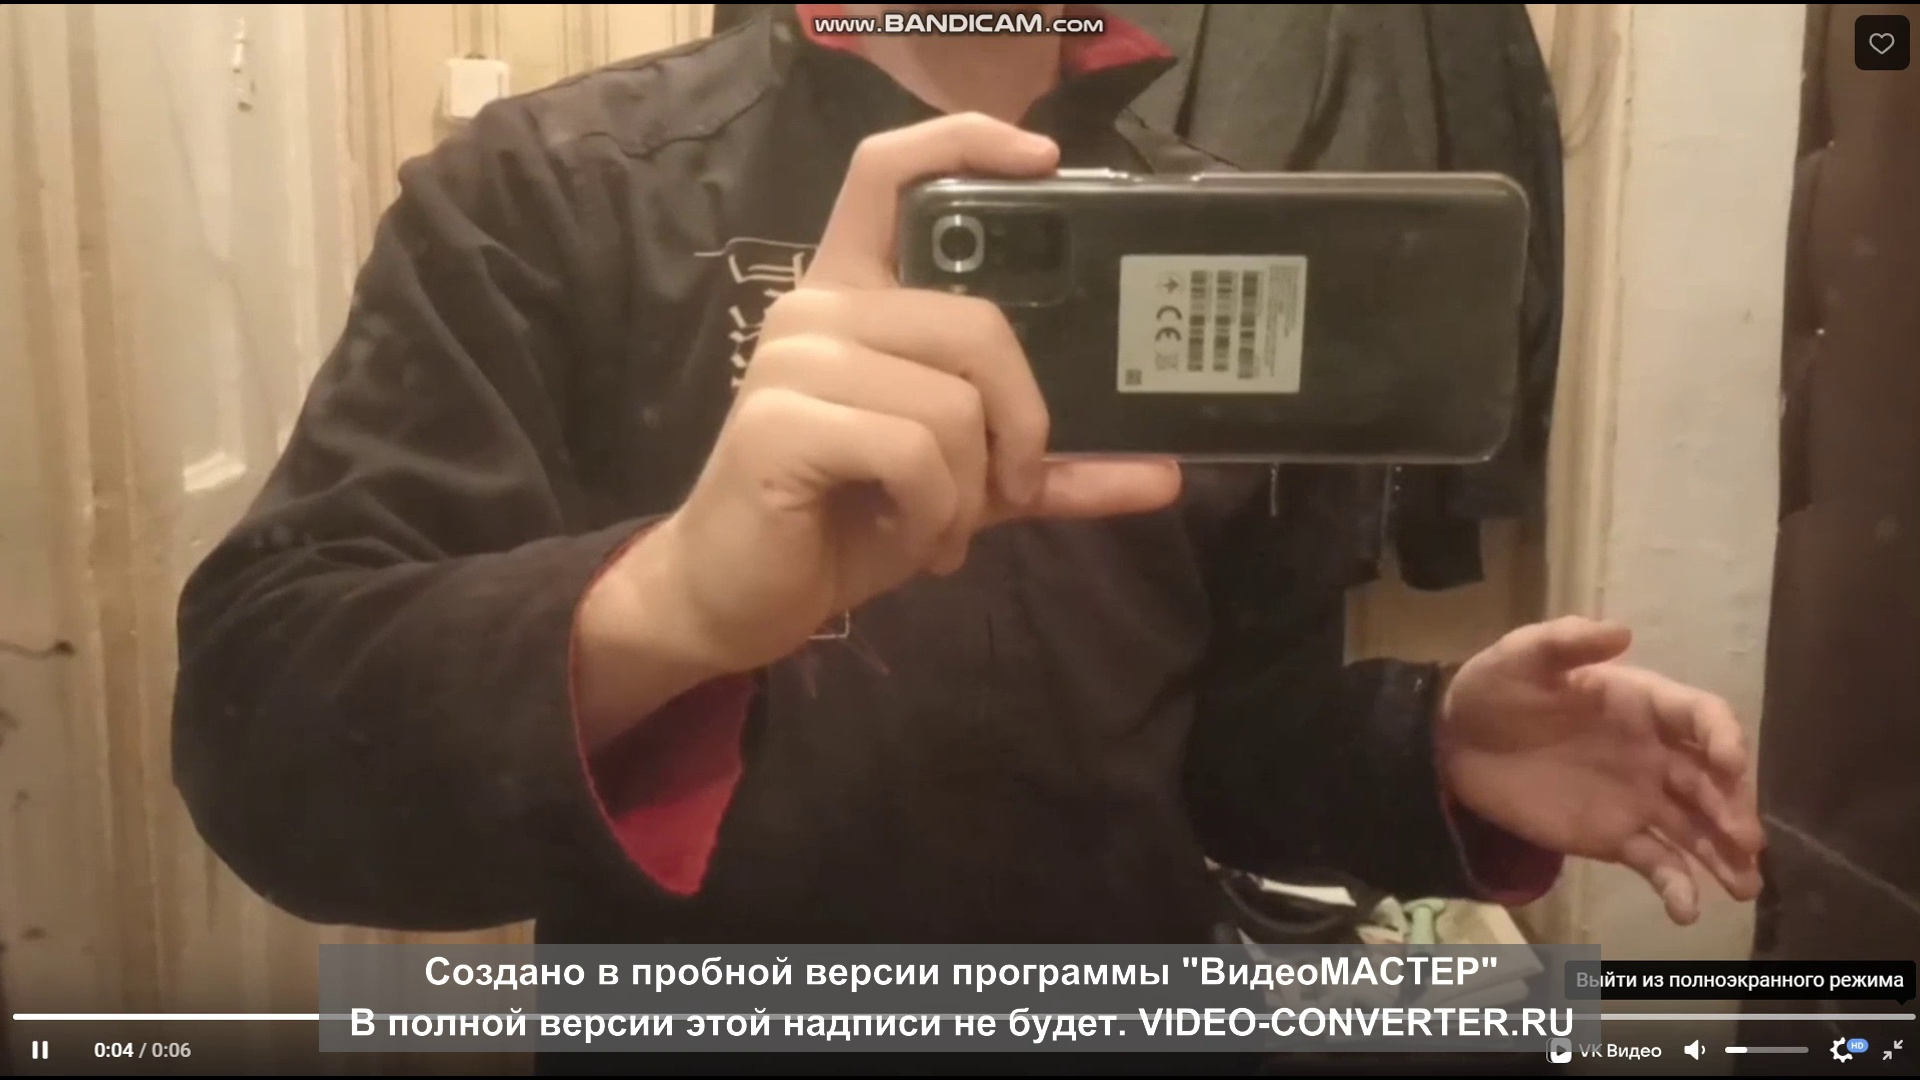Ладонь: (1457, 615, 1766, 923)
